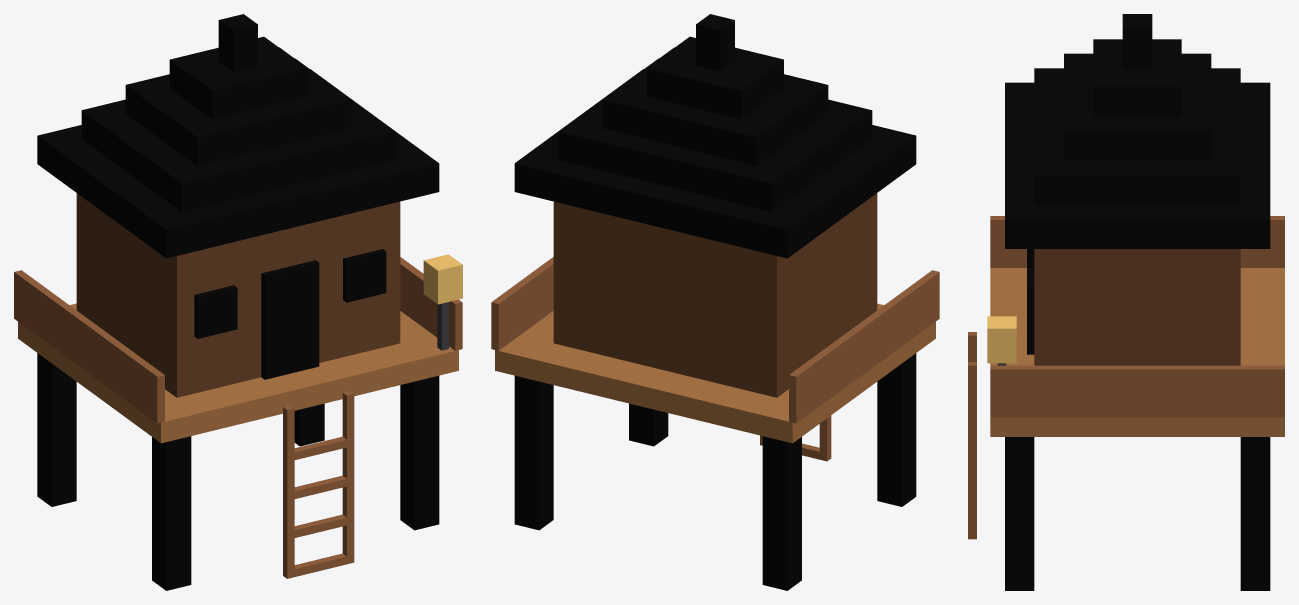
File: StiltHut.obj
The picture shows the model from 3 angles, left to right: view 1: azimuth 30°, elevation 25°; view 2: azimuth 150°, elevation 25°; view 3: azimuth 270°, elevation 25°; orthographic projection. The views are drawn at different scales.
Parts seen in each view (by area): view 1: StiltHut; view 2: StiltHut; view 3: StiltHut.
Part boxes in pixels (x1,y1,x2,y2): StiltHut: [14, 14, 462, 590]; StiltHut: [491, 14, 939, 590]; StiltHut: [968, 14, 1284, 590].
Size of the model in its own units: 12.3 by 18.8 by 10.75.
